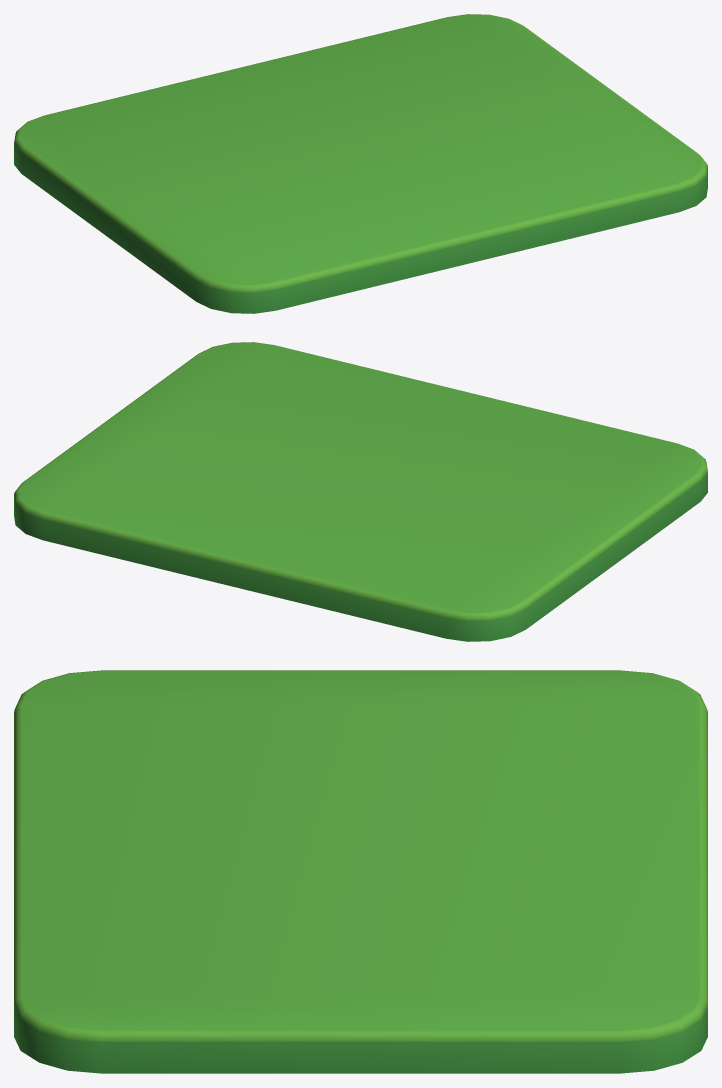
The picture shows the model from 3 angles, top to bottom: view 1: azimuth 30°, elevation 25°; view 2: azimuth 150°, elevation 25°; view 3: azimuth 270°, elevation 25°; orthographic projection. The views are drawn at different scales.
Visible parts, largest first — view 1: floor_base; view 2: floor_base; view 3: floor_base.
Boxes of the visible parts, x1,y1,x2,y2 form: floor_base: [14, 14, 707, 313]; floor_base: [14, 342, 707, 641]; floor_base: [14, 670, 707, 1073].
Bounding box in the file's own units: 1000 × 50 × 800.
Materials: 1 (1 with a texture image).
